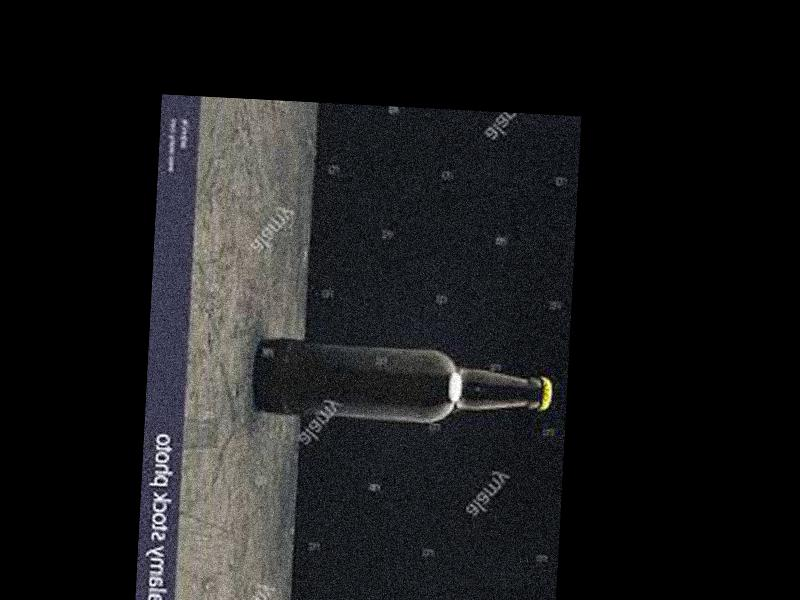Beer: (254, 338, 553, 422)
